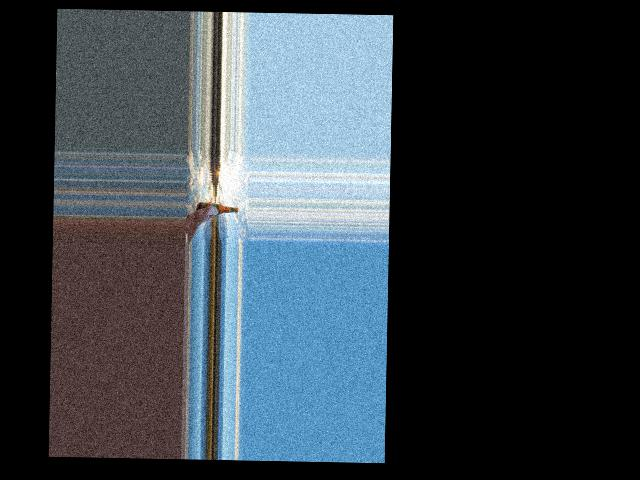beer: (198, 201, 238, 215)
